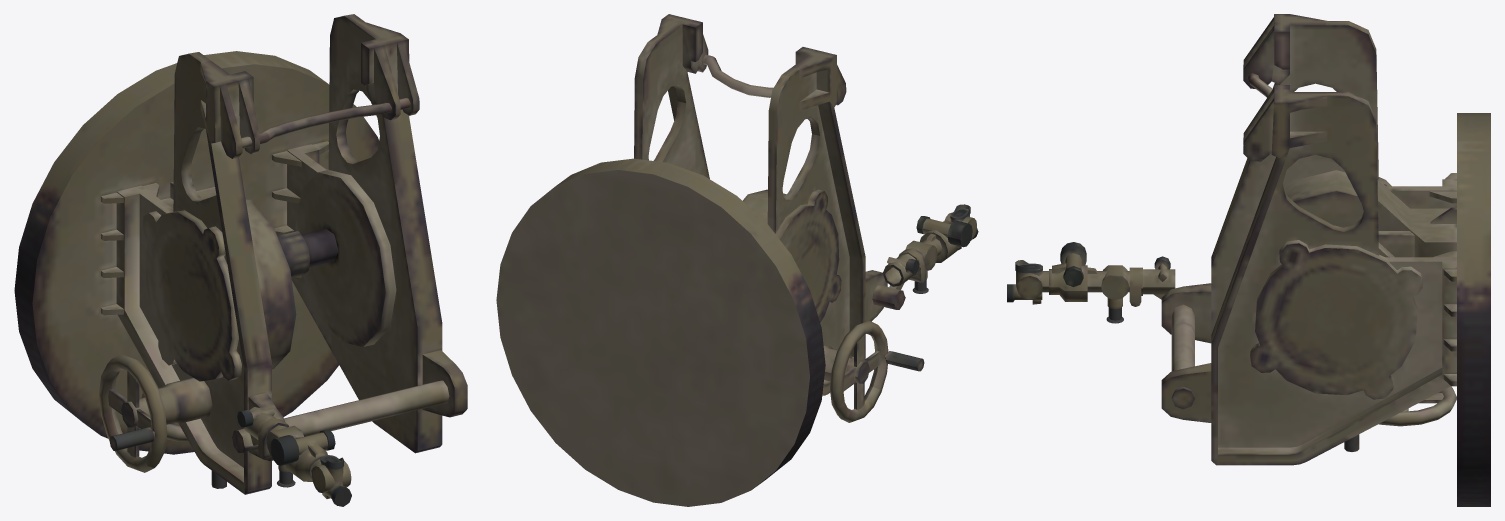
Rendered from Turret_01.glb.
3 renders of one model, left to right at view 1: azimuth 30°, elevation 25°; view 2: azimuth 150°, elevation 25°; view 3: azimuth 270°, elevation 25°, orthographic. The views are drawn at different scales.
Parts seen in each view (by area): view 1: set_0_group_0; view 2: set_0_group_0; view 3: set_0_group_0.
Part boxes in pixels (x1,y1,x2,y2): set_0_group_0: (14, 14, 467, 506); set_0_group_0: (496, 14, 978, 506); set_0_group_0: (1007, 14, 1490, 506).
Bounding box in the file's own units: 0.7341 × 0.8494 × 0.8662.
1 material, 1 textured.
